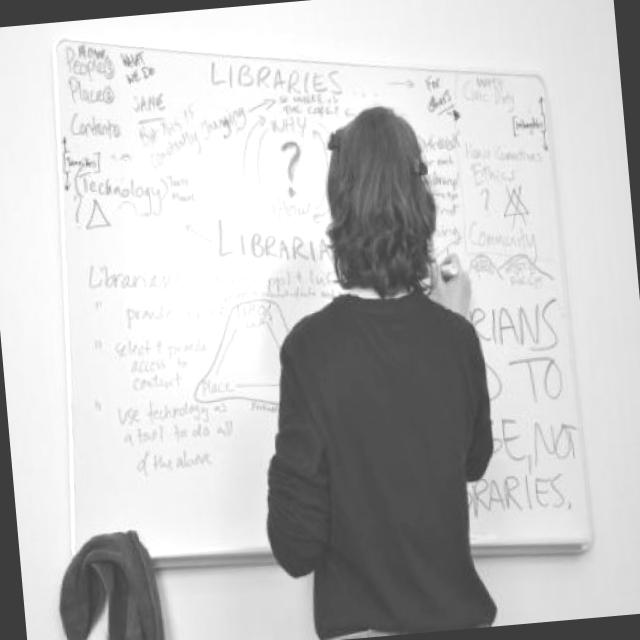Instructor: (262, 97, 507, 636)
White-board: (63, 38, 593, 566)
